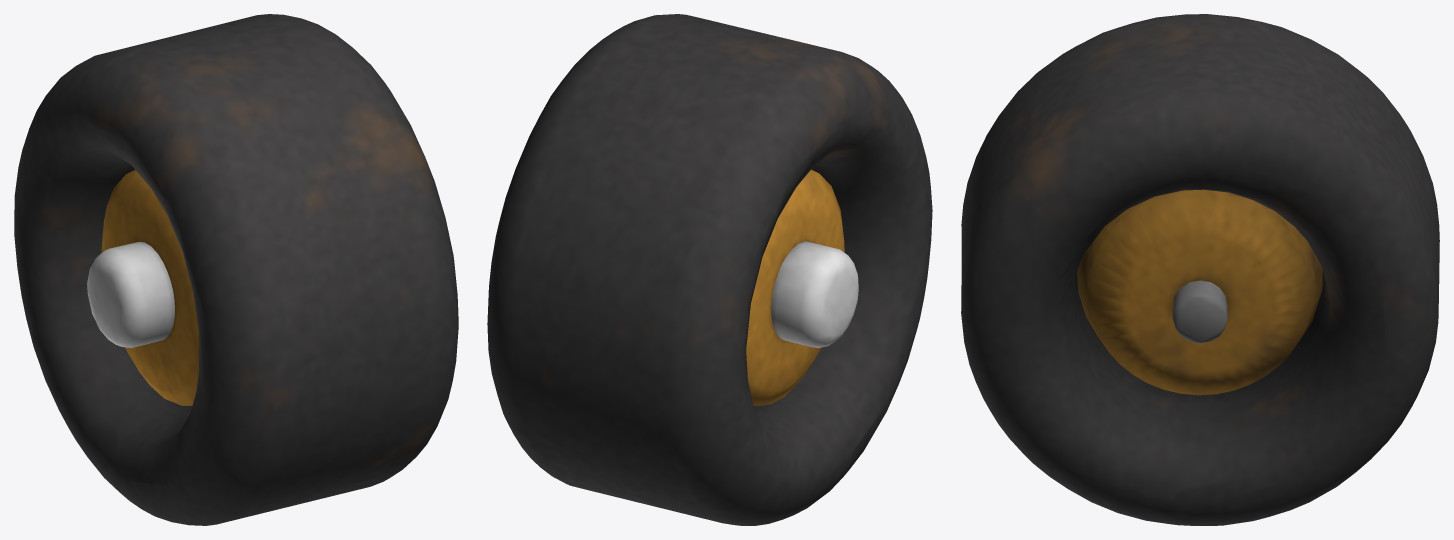
3 renders of one model, left to right at view 1: azimuth 30°, elevation 25°; view 2: azimuth 150°, elevation 25°; view 3: azimuth 270°, elevation 25°, orthographic.
Visible parts, largest first — view 1: wheel_FR; view 2: wheel_FR; view 3: wheel_FR.
Boxes of the visible parts, bbox=[...] form: wheel_FR: bbox=[14, 14, 458, 525]; wheel_FR: bbox=[487, 14, 932, 525]; wheel_FR: bbox=[961, 14, 1439, 525].
Bounding box in the file's own units: 0.1863 × 0.3089 × 0.3094.
Materials: 1 (1 with a texture image).
